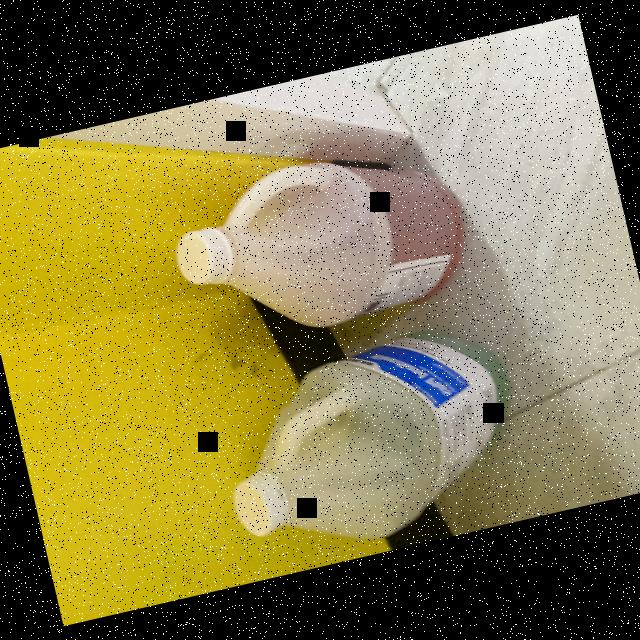chemical_plastic_gallon: (199, 314, 536, 574), (142, 124, 479, 370)
